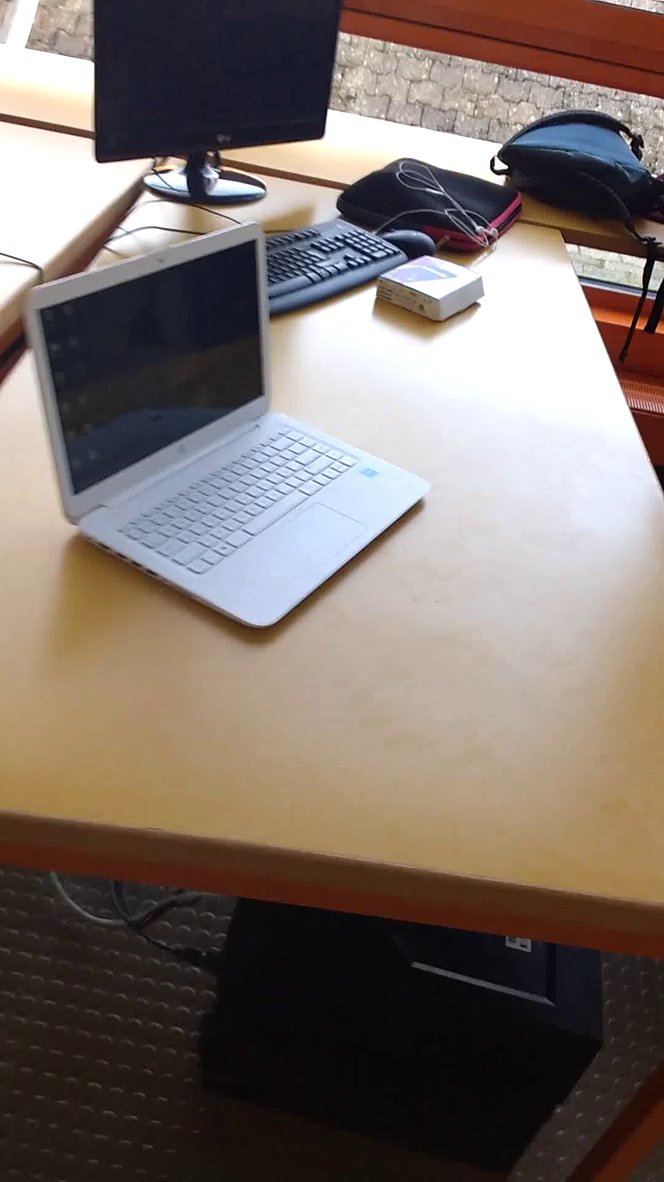bag: (482, 94, 664, 247)
laptop: (9, 213, 446, 651)
